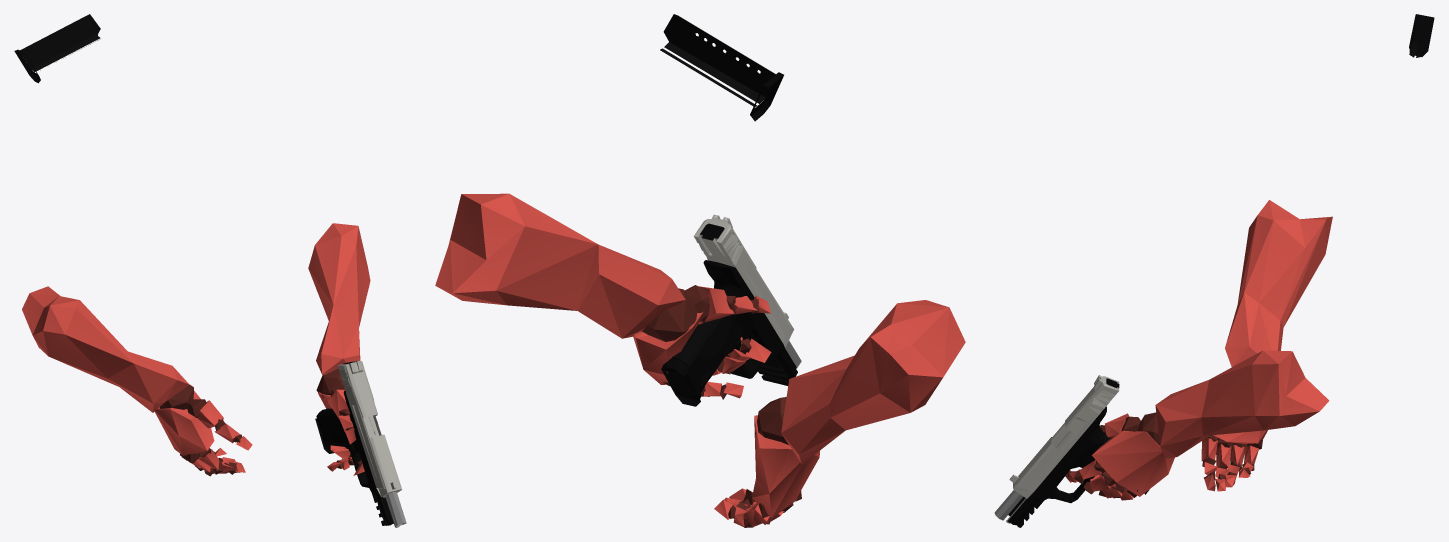
File: M&P9reloadNormal1lowP_000107.obj
3 renders of one model, left to right at view 1: azimuth 30°, elevation 25°; view 2: azimuth 150°, elevation 25°; view 3: azimuth 270°, elevation 25°, orthographic. The views are drawn at different scales.
Parts seen in each view (by area): view 1: Beta_Surface.001_Beta_Surface.002, slide_平面.002, triger_平面.001, magazine.002_平面.005, Beta_Joints.001_Beta_Joints.002; view 2: Beta_Surface.001_Beta_Surface.002, triger_平面.001, magazine.002_平面.005, Beta_Joints.001_Beta_Joints.002, slide_平面.002; view 3: Beta_Surface.001_Beta_Surface.002, slide_平面.002, triger_平面.001, Beta_Joints.001_Beta_Joints.002, magazine.002_平面.005.
Part boxes in pixels (x1,y1,x2,y2): Beta_Surface.001_Beta_Surface.002: [22, 223, 377, 475]; slide_平面.002: [337, 360, 402, 497]; triger_平面.001: [316, 390, 406, 527]; magazine.002_平面.005: [14, 14, 100, 83]; Beta_Joints.001_Beta_Joints.002: [160, 368, 363, 476]; Beta_Surface.001_Beta_Surface.002: [435, 193, 965, 527]; triger_平面.001: [661, 260, 801, 399]; magazine.002_平面.005: [660, 14, 783, 121]; Beta_Joints.001_Beta_Joints.002: [641, 285, 801, 527]; slide_平面.002: [693, 214, 793, 347]; Beta_Surface.001_Beta_Surface.002: [1065, 200, 1332, 500]; slide_平面.002: [1009, 375, 1119, 498]; triger_平面.001: [994, 406, 1111, 527]; Beta_Joints.001_Beta_Joints.002: [1067, 412, 1262, 498]; magazine.002_平面.005: [1409, 14, 1434, 57].
Bounding box in the file's own units: 88.68 × 103 × 94.47.
